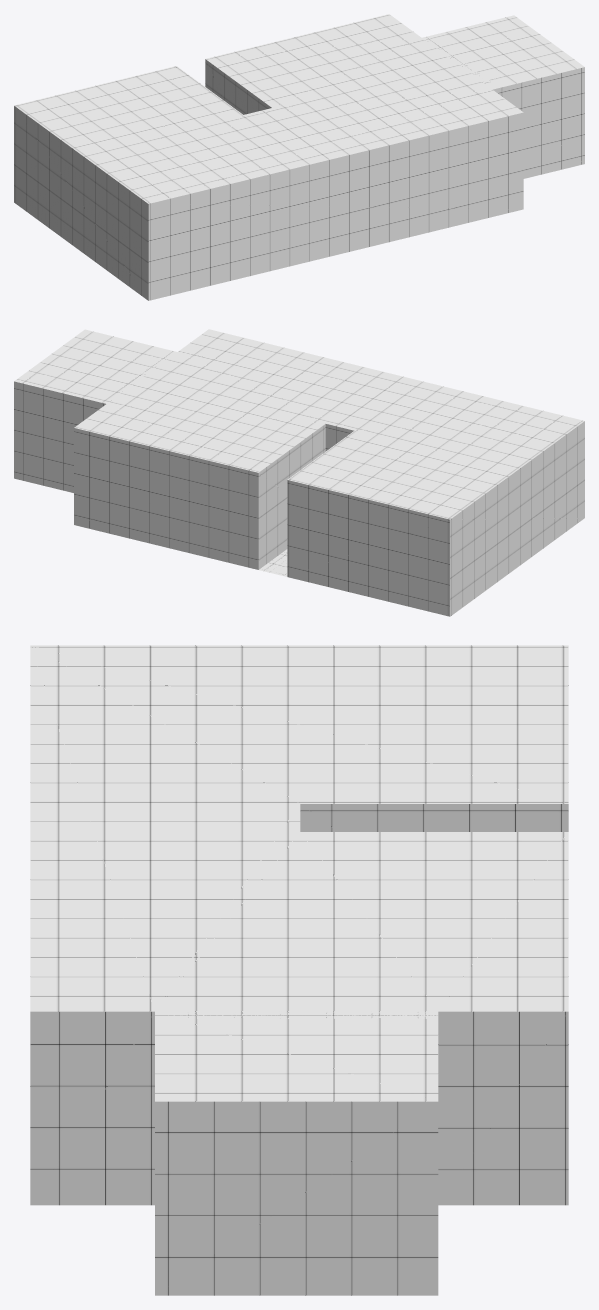
Rendered from level_model.glb.
The picture shows the model from 3 angles, top to bottom: view 1: azimuth 30°, elevation 25°; view 2: azimuth 150°, elevation 25°; view 3: azimuth 270°, elevation 25°; orthographic projection. The views are drawn at different scales.
Parts seen in each view (by area): view 1: Plane.001; view 2: Plane.001; view 3: Plane.001.
Part boxes in pixels (x1=…): Plane.001: x1=14, y1=14, x2=584, y2=300; Plane.001: x1=14, y1=329, x2=584, y2=616; Plane.001: x1=30, y1=645, x2=568, y2=1295.
Bounding box in the file's own units: 16.06 × 3.18 × 8.
Materials: 1 (1 with a texture image).
